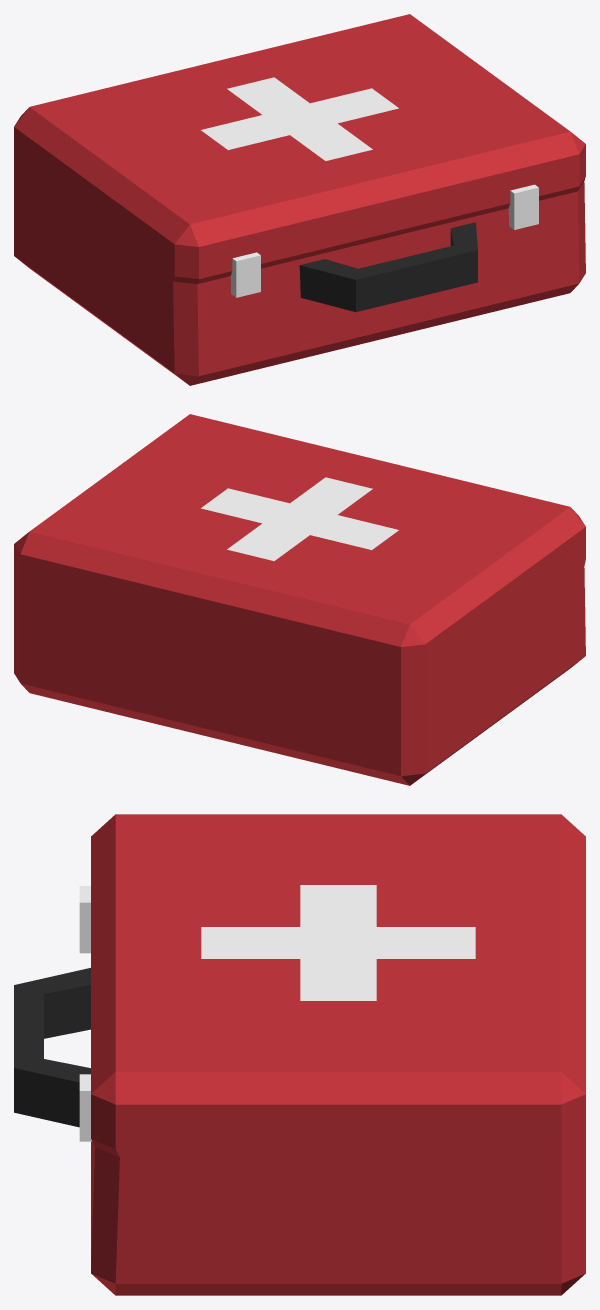
File: medkit.glb
3 renders of one model, top to bottom at view 1: azimuth 30°, elevation 25°; view 2: azimuth 150°, elevation 25°; view 3: azimuth 270°, elevation 25°, orthographic. The views are drawn at different scales.
Parts seen in each view (by area): view 1: medkit; view 2: medkit; view 3: medkit.
Part boxes in pixels (bbox=[...]): medkit: bbox=[14, 14, 585, 385]; medkit: bbox=[14, 414, 585, 785]; medkit: bbox=[14, 814, 585, 1295].
Bounding box in the file's own units: 0.3998 × 0.15 × 0.3471.
Materials: 1 (1 with a texture image).
